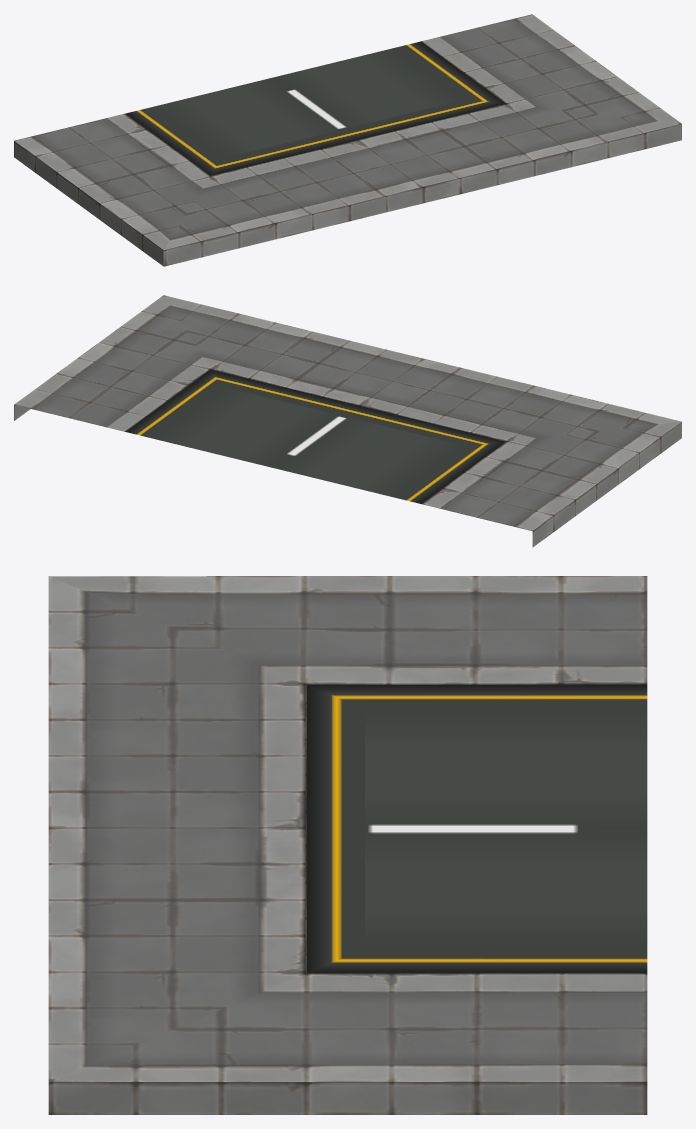
Rendered from Road7.fbx.
3 renders of one model, top to bottom at view 1: azimuth 30°, elevation 25°; view 2: azimuth 150°, elevation 25°; view 3: azimuth 270°, elevation 25°, orthographic. The views are drawn at different scales.
Parts seen in each view (by area): view 1: polySurface36; view 2: polySurface36; view 3: polySurface36.
Part boxes in pixels (x1,y1,x2,y2): polySurface36: (14,14,681,266); polySurface36: (14,295,681,547); polySurface36: (48,576,647,1114).
Size of the model in its own units: 10.51 by 0.3198 by 5.25.
